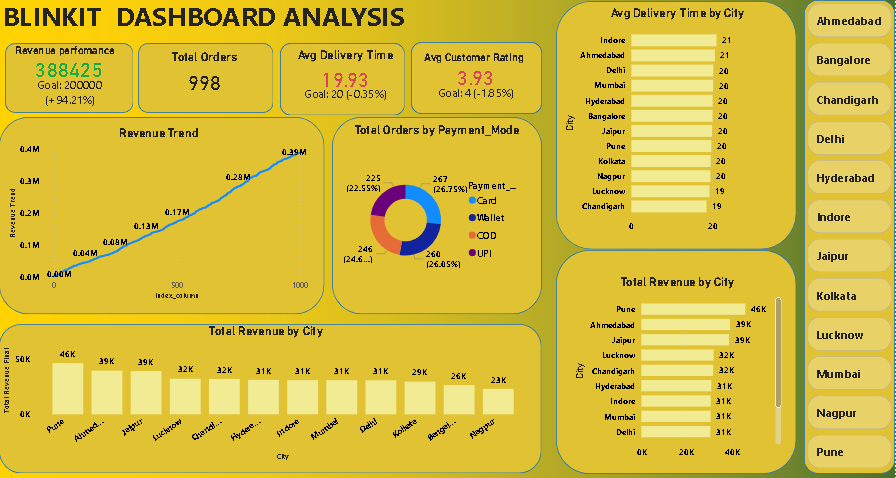

The dashboard page shown, as its layout file describes it:
{"tool":"powerbi","page":{"name":"Page 1","canvas":[1280,720],"ordinal":0},"visuals":[{"type":"image","box":[0,0,1280,720],"z":0},{"type":"shape","box":[8.3,81.7,183.3,100],"z":1000},{"type":"kpi","title":"Revenue perfomance","fields":{"Goal":["Blinkit Large Dataset.Revenue Target"],"Indicator":["Blinkit Large Dataset.Total Revenue Final"],"TrendLine":["Blinkit Large Dataset.Index_column"]},"box":[16.7,81.7,166.7,100],"z":2000},{"type":"shape","box":[198.3,81.7,193.3,100],"z":3000},{"type":"kpi","title":"Total Orders ","fields":{"TrendLine":["Blinkit Large Dataset.Index_column"],"Indicator":["Blinkit Large Dataset.Total Orders Final"]},"box":[203.3,91.7,181.7,73.3],"z":4000},{"type":"shape","box":[401.7,81.7,178.3,103.3],"z":5000},{"type":"kpi","title":"Avg Delivery Time ","fields":{"Indicator":["Blinkit Large Dataset.Avg Delivery Time Final"],"TrendLine":["Blinkit Large Dataset.Index_column"],"Goal":["Blinkit Large Dataset.Delivery Target"]},"box":[410,88.3,170,90],"z":6000},{"type":"shape","box":[588.6,80,187.1,102.9],"z":7000},{"type":"kpi","title":"Avg Customer Rating","fields":{"Indicator":["Blinkit Large Dataset.Avg Rating Final"],"TrendLine":["Blinkit Large Dataset.Index_column"],"Goal":["Blinkit Large Dataset.Rating Target"]},"box":[601.4,91.4,160,81.4],"z":8000},{"type":"shape","box":[795,21.7,343.3,355],"z":9000},{"type":"shape","box":[475,186.7,300,281.7],"z":10000},{"type":"donutChart","title":"Total Orders by Payment_Mode","fields":{"Category":["Blinkit Large Dataset.Payment_Mode"],"Y":["Blinkit Large Dataset.Total Orders Final"]},"box":[486.7,195,276.7,258.3],"z":11000},{"type":"shape","box":[0,186.7,465,281.7],"z":12000},{"type":"lineChart","title":"Revenue Trend ","fields":{"Category":["Blinkit Large Dataset.Index_column"],"Y":["Blinkit Large Dataset.Revenue Trend"]},"box":[8.3,200,438.3,253.3],"z":13000},{"type":"barChart","title":"Avg Delivery Time by City","fields":{"Category":["Blinkit Large Dataset.City"],"Y":["Blinkit Large Dataset.Avg Delivery Time Final"]},"box":[801.7,28.3,336.7,331.7],"z":14000},{"type":"shape","box":[1150,20,130,676.7],"z":15000},{"type":"shape","box":[0,483.3,775,213.3],"z":16000},{"type":"advancedSlicerVisual","fields":{"Values":["Blinkit Large Dataset.City"]},"box":[1150,20,130,676.7],"z":17000},{"type":"clusteredColumnChart","title":"Total Revenue by City","fields":{"Category":["Blinkit Large Dataset.City"],"Y":["Blinkit Large Dataset.Total Revenue Final"]},"box":[0,483.3,763.3,200],"z":18000},{"type":"shape","box":[795,376.7,343.3,320],"z":19000},{"type":"barChart","title":"Total Revenue by City","fields":{"Category":["Blinkit Large Dataset.City"],"Y":["Blinkit Large Dataset.Total Revenue Final"]},"box":[815,413.3,306.7,270],"z":20000},{"type":"textbox","box":[0,11.7,665,70],"z":21000}]}

Visuals, with their boxes on the page's 1280x720 design canvas (x1, y1, x2, y2). These are canvas units, not pixel positions in the 896x478 screenshot, which may show the page scaled, cropped or inside an application window:
image: region(0, 0, 1280, 720)
shape: region(8, 82, 192, 182)
"Revenue perfomance" kpi: region(17, 82, 183, 182)
shape: region(198, 82, 392, 182)
"Total Orders " kpi: region(203, 92, 385, 165)
shape: region(402, 82, 580, 185)
"Avg Delivery Time " kpi: region(410, 88, 580, 178)
shape: region(589, 80, 776, 183)
"Avg Customer Rating" kpi: region(601, 91, 761, 173)
shape: region(795, 22, 1138, 377)
shape: region(475, 187, 775, 468)
"Total Orders by Payment_Mode" donutChart: region(487, 195, 763, 453)
shape: region(0, 187, 465, 468)
"Revenue Trend " lineChart: region(8, 200, 447, 453)
"Avg Delivery Time by City" barChart: region(802, 28, 1138, 360)
shape: region(1150, 20, 1280, 697)
shape: region(0, 483, 775, 697)
advancedSlicerVisual - Blinkit Large Dataset.City: region(1150, 20, 1280, 697)
"Total Revenue by City" clusteredColumnChart: region(0, 483, 763, 683)
shape: region(795, 377, 1138, 697)
"Total Revenue by City" barChart: region(815, 413, 1122, 683)
textbox: region(0, 12, 665, 82)
